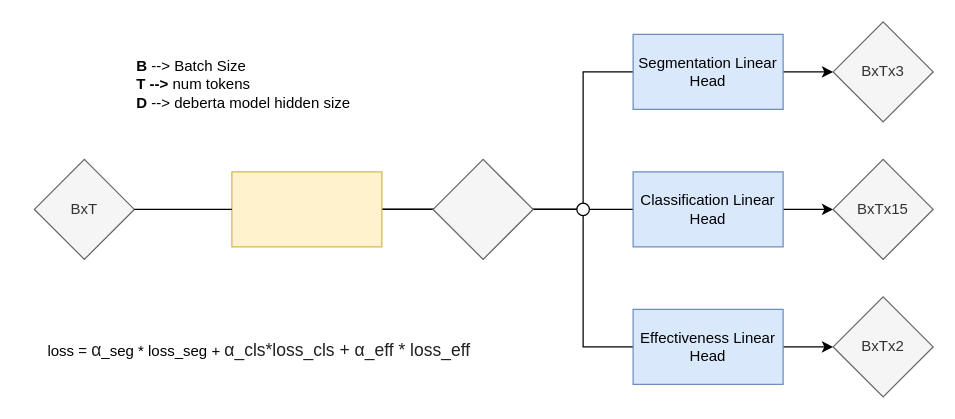
Image size: 955x419. Some labels were removed from this diagram. Here are the shapes that lost their labels. From the top down, the centre of each, then its label:
[306,209]: Deberta Backbone
[482,208]: BxTxD
